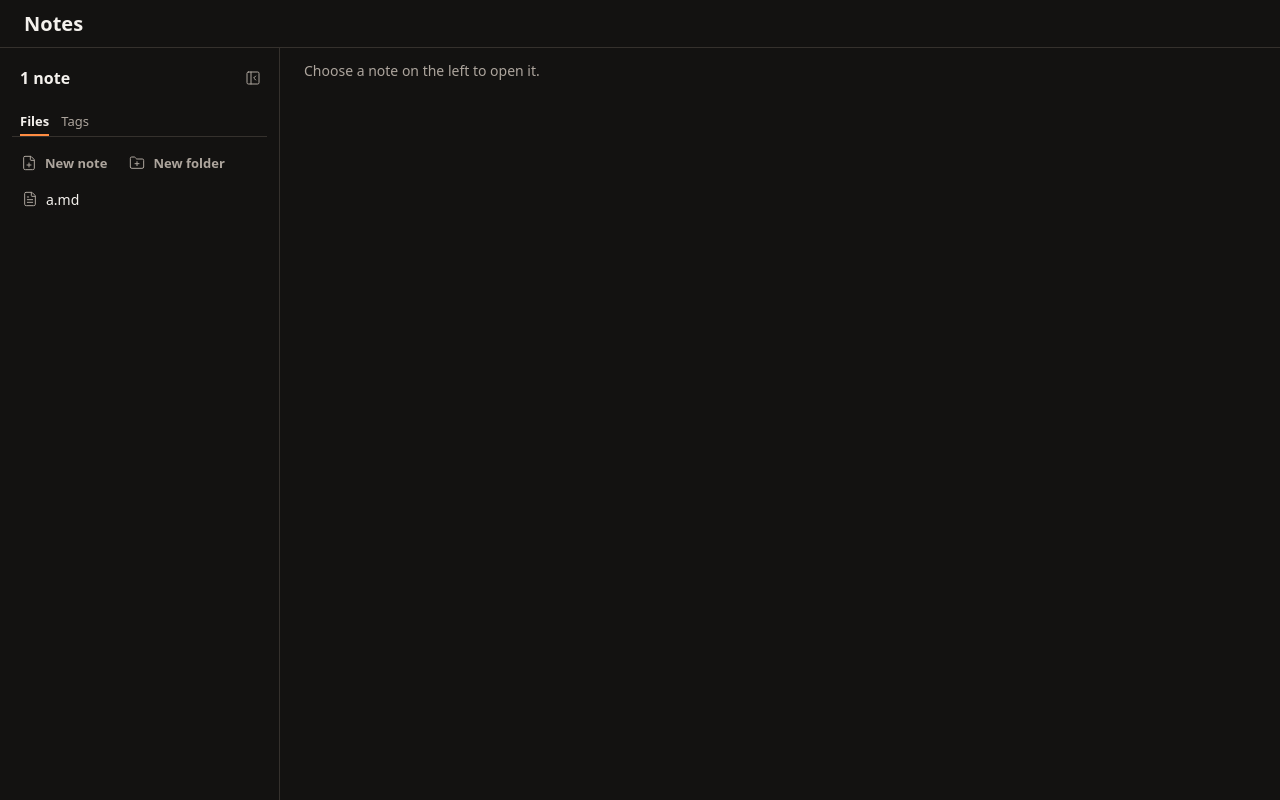
tags are only asked for once the Tags tab is chosen
Expected: the text "1 note" is shown, top-left (20, 67), bottom-right (70, 89)
Click the tab "Tags".
click(75, 122)  # box top-left (61, 108), bottom-right (89, 136)
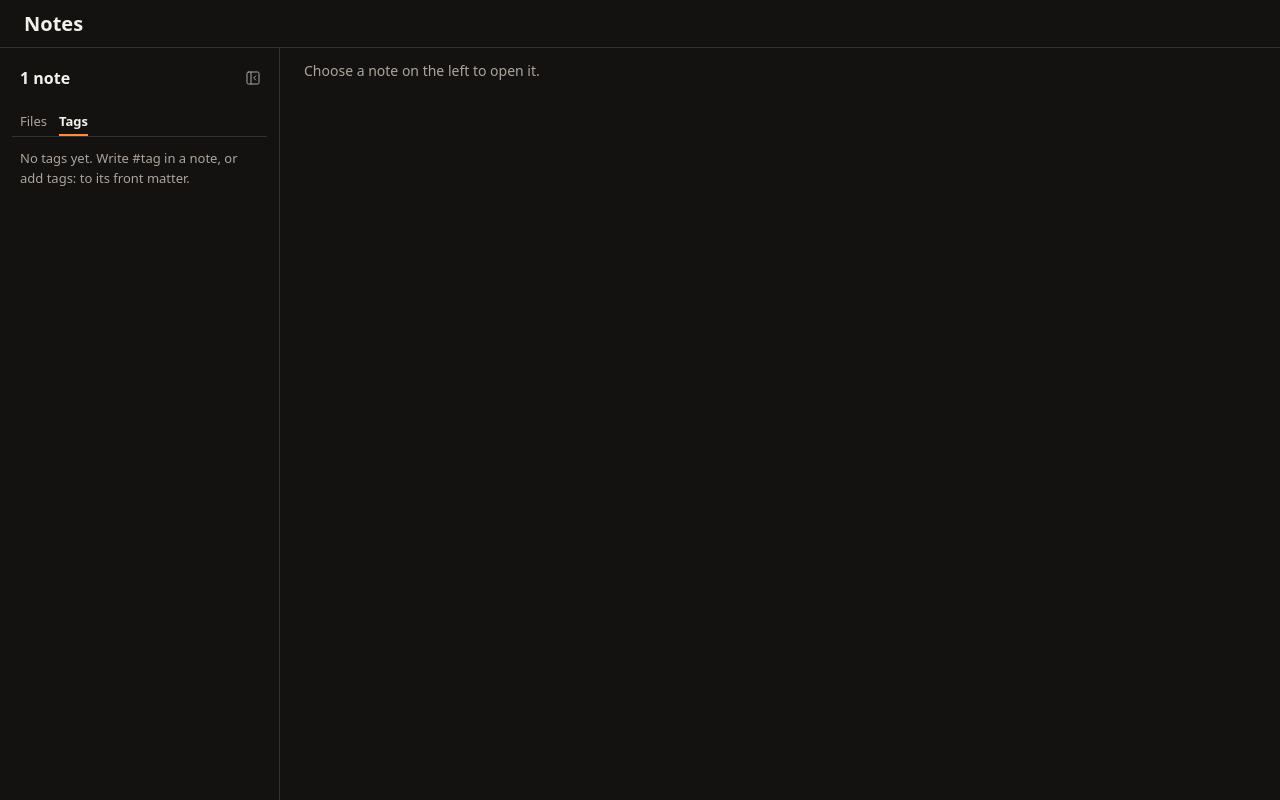
Result: the text "No tags yet" is shown at top-left (20, 149), bottom-right (238, 186)
